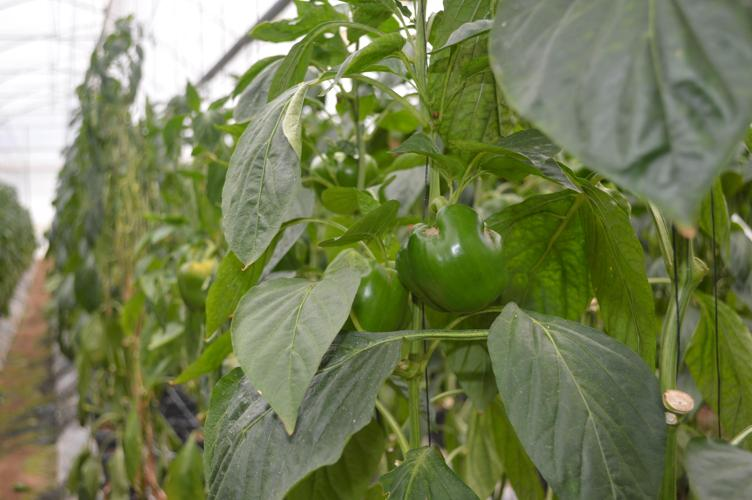BellPepper: (412, 204, 504, 310), (344, 266, 410, 334)
